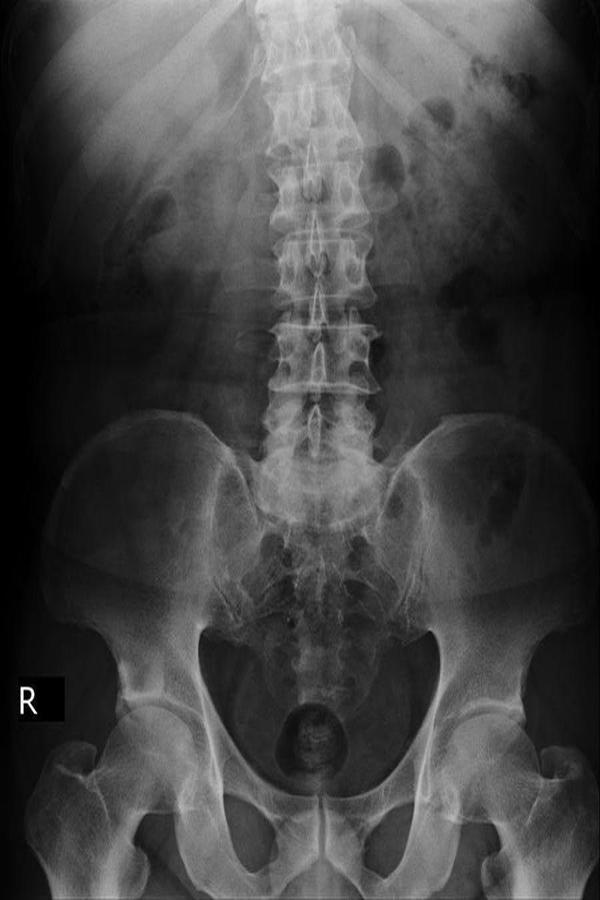lumbar scoliosis: (244, 7, 388, 548)
